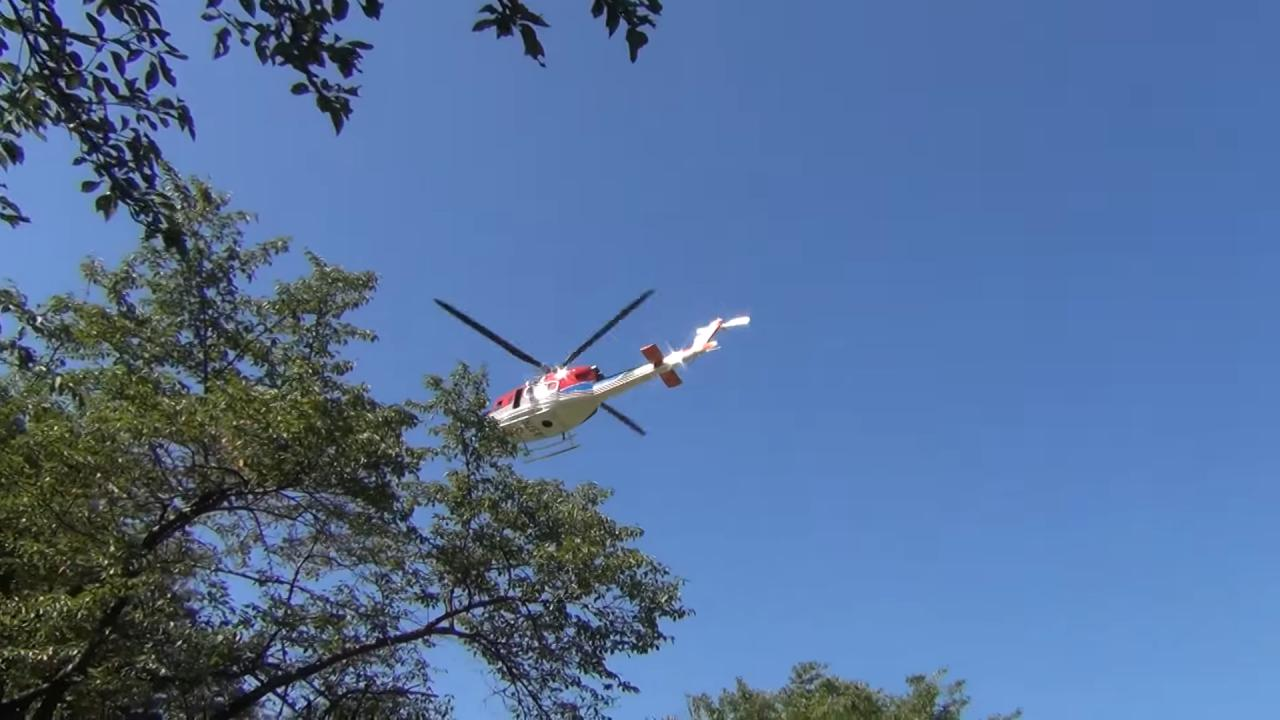Helicopter: (412, 262, 782, 490)
